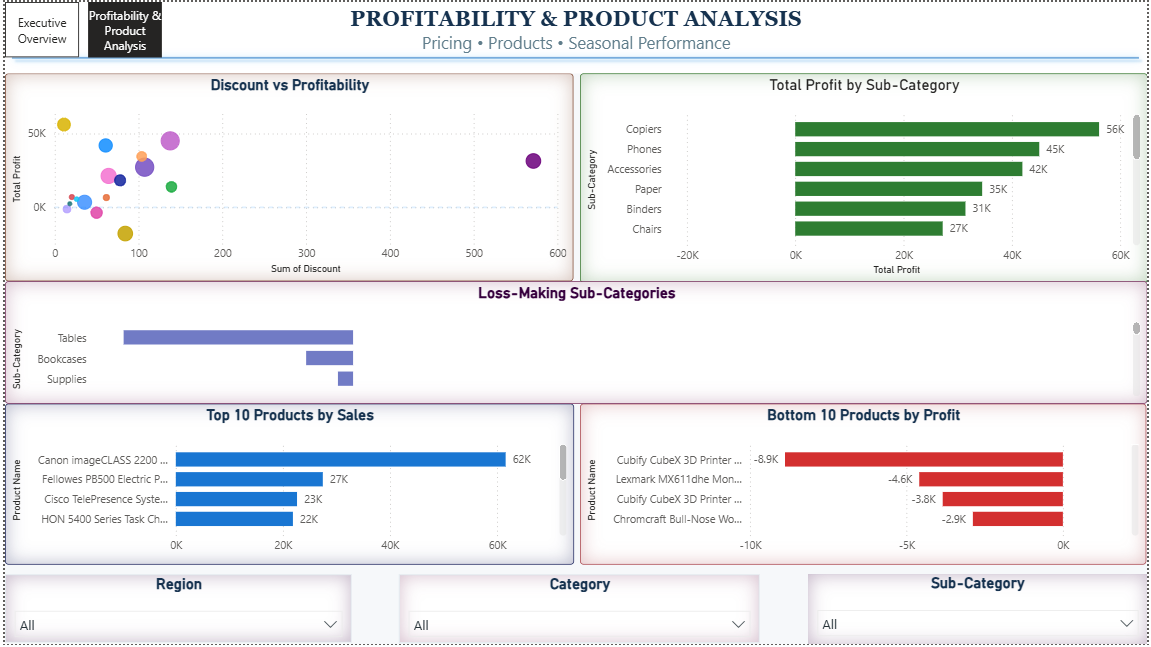

What the dashboard file says about the page in this screenshot:
{"tool":"powerbi","page":{"name":"Profitability & Product Analysis","canvas":[1280,720],"ordinal":1},"visuals":[{"type":"scatterChart","title":"Discount vs Profitability","fields":{"X":["Sum(orders.Discount)"],"Y":["orders.Total Profit"],"Size":["Sum(orders.Sales)"],"Category":["orders.Sub-Category"]},"box":[0,80,637.1,232.9],"z":0},{"type":"clusteredBarChart","title":"Top 10 Products by Sales","fields":{"Category":["orders.Product Name"],"Y":["Sum(orders.Sales)"]},"box":[0,449.3,637.5,180],"z":1000},{"type":"clusteredBarChart","title":"Bottom 10 Products by Profit","fields":{"Category":["orders.Product Name"],"Y":["orders.Total Profit"]},"box":[644.3,450,634.3,180],"z":2000},{"type":"textbox","box":[0,0,1280,80],"z":3000},{"type":"clusteredBarChart","fields":{"Y":["orders.Total Profit"],"Category":["orders.Sub-Category"]},"box":[644.3,80,635.7,234.3],"z":4000},{"type":"barChart","title":"Loss-Making Sub-Categories","fields":{"Category":["orders.Sub-Category"],"Y":["orders.Total Profit"]},"box":[0,312.9,1280,137.1],"z":5000},{"type":"shape","box":[0,0,1278.3,125],"z":6000},{"type":"slicer","title":"Region","fields":{"Values":["orders.Region"]},"box":[0,641.4,388.6,75.7],"z":7000},{"type":"slicer","title":"Category","fields":{"Values":["orders.Category"]},"box":[442.1,641.4,404.3,77.1],"z":8000},{"type":"slicer","title":"Sub-Category","fields":{"Values":["orders.Sub-Category"]},"box":[900,641.4,380,78.6],"z":9000},{"type":"pageNavigator","box":[0,0,177.5,62.5],"z":10000}]}

Visuals, with their boxes in screenshot pixels (x1, y1, x2, y2):
"Discount vs Profitability" scatterChart: <bbox>0, 71, 565, 277</bbox>
"Top 10 Products by Sales" clusteredBarChart: <bbox>0, 398, 565, 558</bbox>
"Bottom 10 Products by Profit" clusteredBarChart: <bbox>571, 399, 1134, 559</bbox>
textbox: <bbox>0, 0, 1135, 71</bbox>
clusteredBarChart - orders.Total Profit x orders.Sub-Category: <bbox>571, 71, 1135, 279</bbox>
"Loss-Making Sub-Categories" barChart: <bbox>0, 277, 1135, 399</bbox>
shape: <bbox>0, 0, 1134, 111</bbox>
"Region" slicer: <bbox>0, 569, 345, 636</bbox>
"Category" slicer: <bbox>392, 569, 751, 637</bbox>
"Sub-Category" slicer: <bbox>798, 569, 1135, 638</bbox>
pageNavigator: <bbox>0, 0, 157, 55</bbox>
